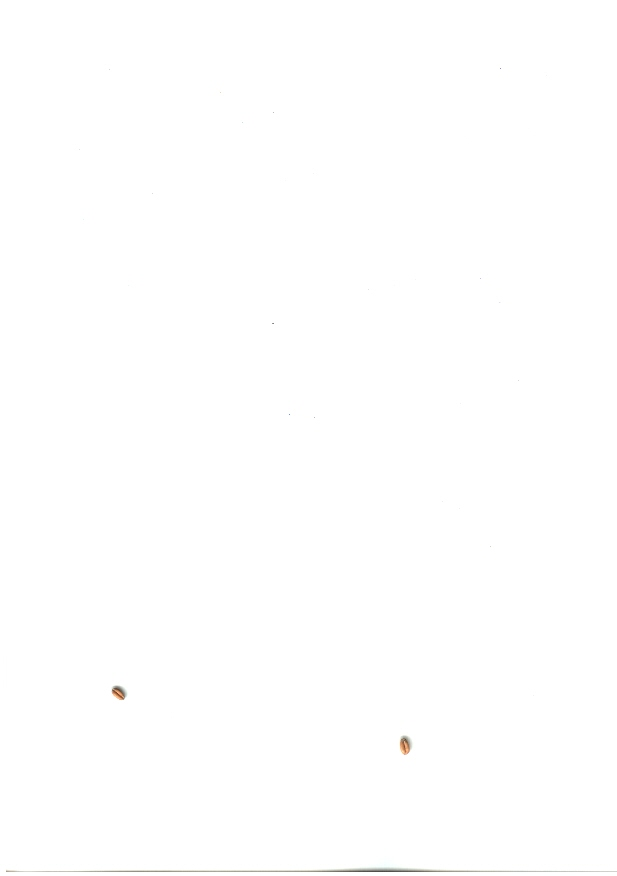grains: (99, 676, 141, 713), (388, 730, 422, 765)
